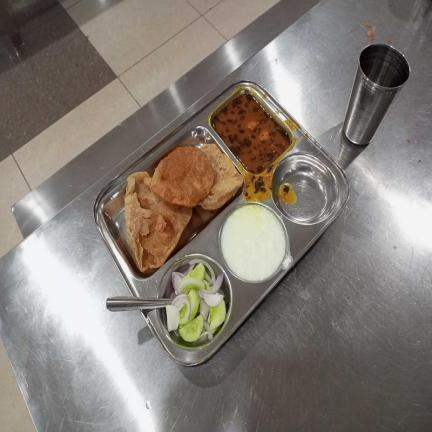Aalu Ki Sabji: (211, 91, 290, 176)
Dahi: (220, 204, 286, 281)
Plate: (93, 80, 350, 367)
Puri: (125, 144, 243, 272)
Salad: (164, 260, 227, 342)
